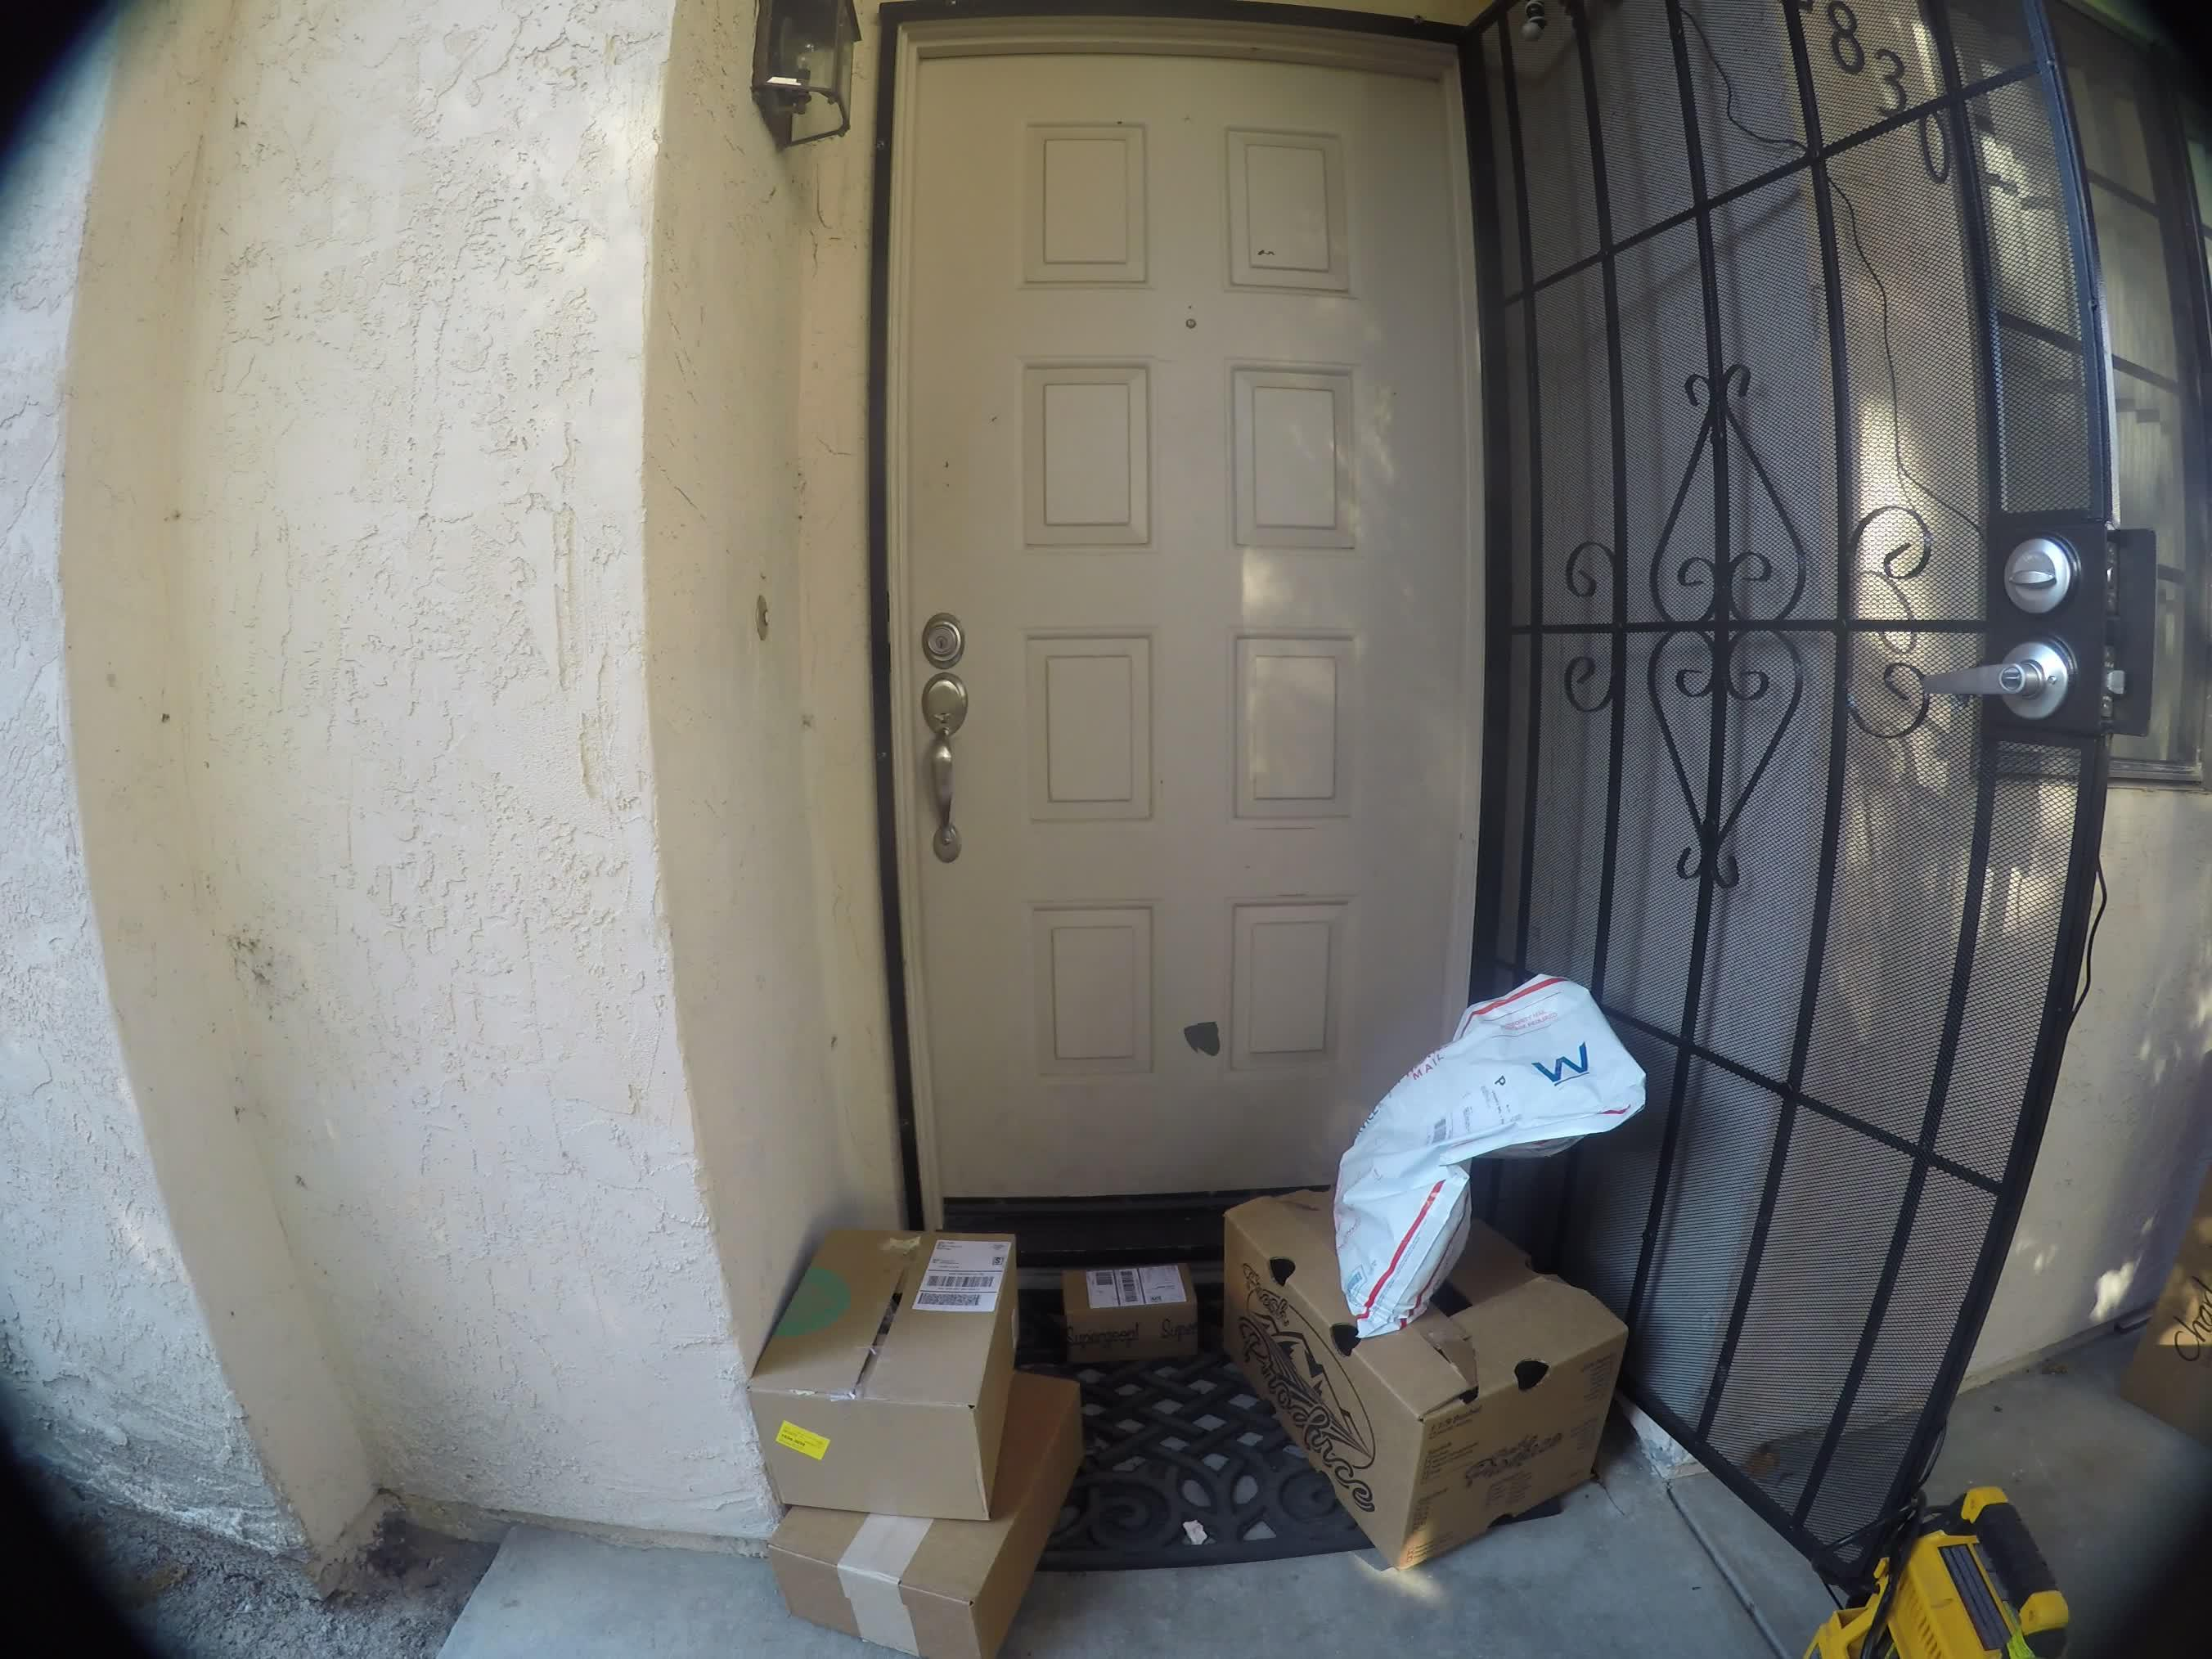box: (1301, 1351, 1632, 1558), (775, 1197, 1005, 1493), (1049, 1246, 1233, 1358)
plastic_bag: (1291, 974, 1696, 1317)
